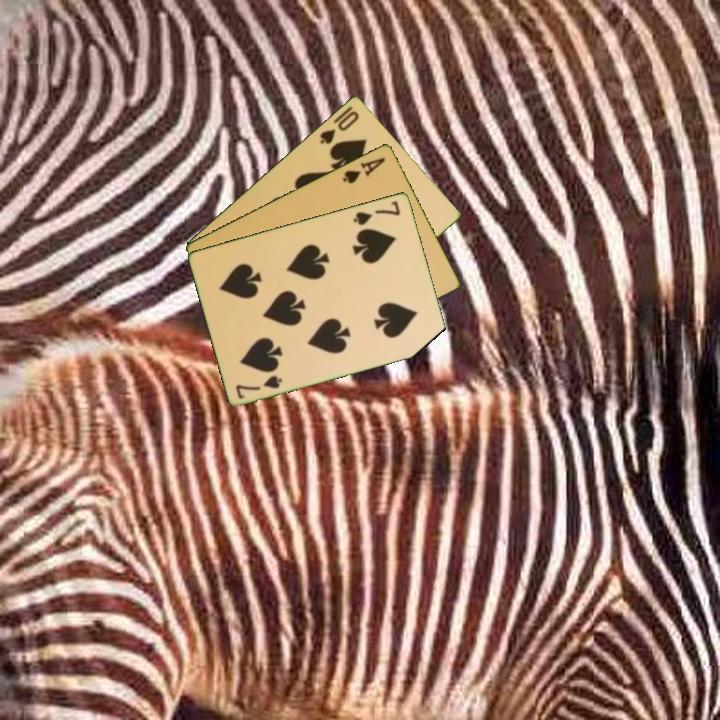10s: (316, 107, 362, 147)
7s: (350, 197, 403, 228), (232, 372, 285, 402)
As: (339, 153, 388, 186)
